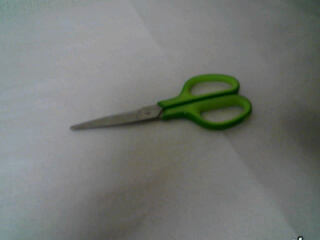003_classes: (71, 71, 255, 147)
